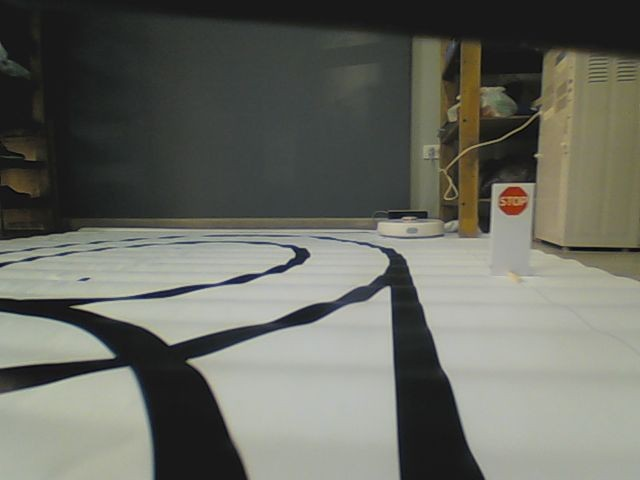Stop: (496, 185, 529, 217)
